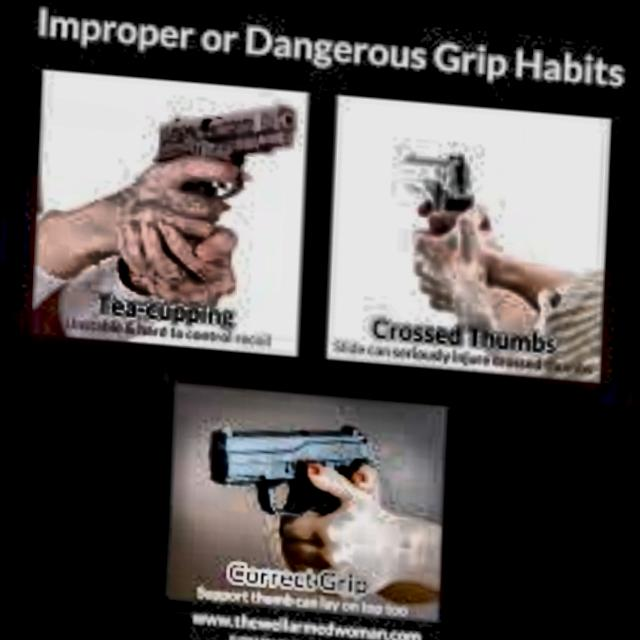pistol: (201, 400, 379, 532), (142, 86, 294, 213), (396, 138, 475, 217)
